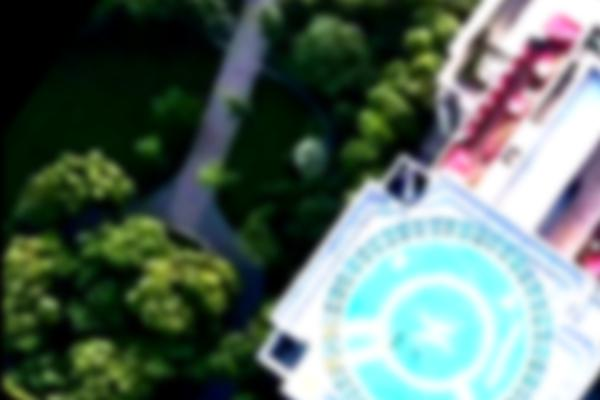Apron: (379, 269, 498, 391)
